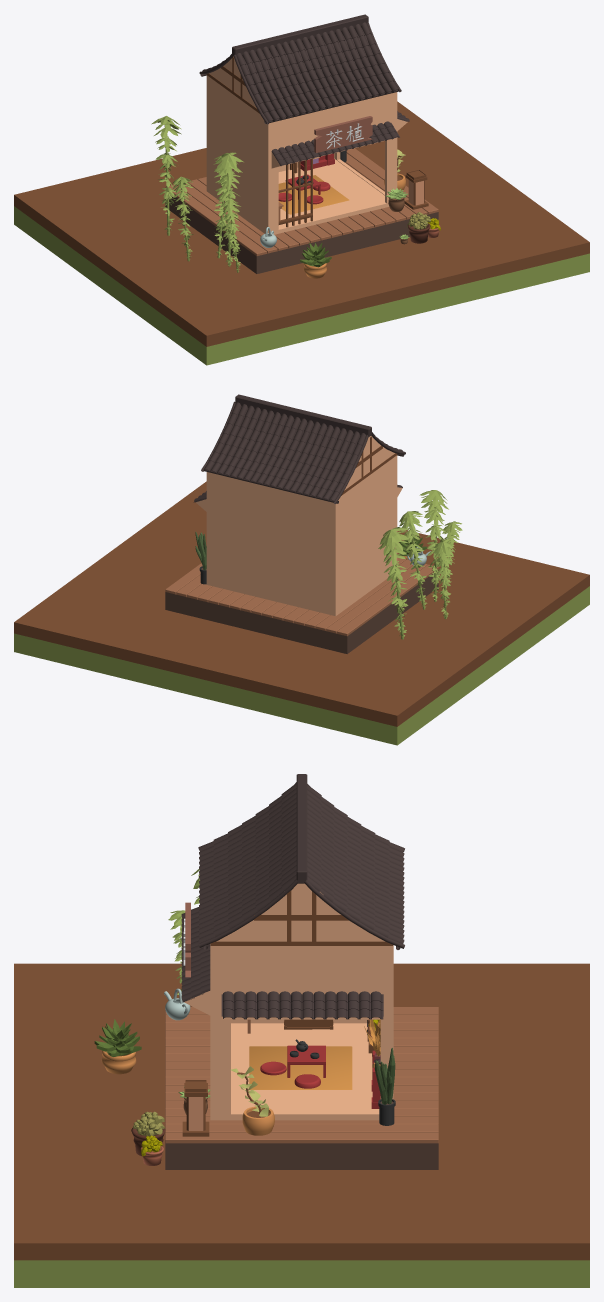
Rendered from japanese tea shop.fbx.
The picture shows the model from 3 angles, top to bottom: view 1: azimuth 30°, elevation 25°; view 2: azimuth 150°, elevation 25°; view 3: azimuth 270°, elevation 25°; orthographic projection. The views are drawn at different scales.
Parts seen in each view (by area): view 1: Cube.006, Circle, Cube, Cube.001, Cube.008, Cube.007, Circle.001, Plane.003, Cube.002, Plane.007, Plane.015, Cube.015 (+8 smaller); view 2: Cube.006, Cube, Circle.006, Cube.001, Cube.008, Cube.007, Plane.007, Cube.002, Plane.015, Plane.005, Plane.006, Vert.003; view 3: Cube.006, Cube.008, Cube, Cube.001, Circle, Circle.006, Cube.007, Circle.004, Plane.010, Plane.001, Circle.001, Cube.014 (+6 smaller).
Boxes of the visible parts, x1,y1,x2,y2 form: Cube.006: [14, 101, 589, 365]; Circle: [236, 22, 398, 121]; Cube: [206, 103, 397, 234]; Cube.001: [206, 27, 397, 147]; Cube.008: [165, 148, 438, 256]; Cube.007: [165, 195, 438, 273]; Circle.001: [271, 121, 399, 165]; Plane.003: [314, 116, 372, 152]; Cube.002: [232, 14, 368, 55]; Plane.007: [151, 116, 181, 235]; Plane.015: [214, 152, 243, 266]; Cube.015: [278, 158, 312, 227]; Cube.006: [14, 481, 589, 745]; Cube: [206, 483, 397, 616]; Circle.006: [204, 402, 365, 500]; Cube.001: [206, 407, 397, 527]; Cube.008: [165, 557, 438, 636]; Cube.007: [165, 570, 438, 653]; Plane.007: [378, 526, 409, 639]; Cube.002: [235, 394, 371, 436]; Plane.015: [419, 490, 448, 601]; Plane.005: [399, 511, 427, 609]; Plane.006: [433, 538, 454, 619]; Vert.003: [201, 401, 368, 503]; Cube.006: [14, 963, 589, 1287]; Cube.008: [165, 1007, 438, 1143]; Cube: [210, 988, 393, 1120]; Cube.001: [210, 883, 393, 988]; Circle: [199, 783, 296, 942]; Circle.006: [307, 785, 404, 943]; Cube.007: [165, 1143, 438, 1169]; Circle.004: [223, 991, 383, 1019]; Plane.010: [249, 1046, 352, 1089]; Plane.001: [210, 890, 393, 945]; Circle.001: [181, 907, 210, 1002]; Cube.014: [94, 1019, 141, 1074].
Bounding box in the file's own units: 594 × 321 × 517.
